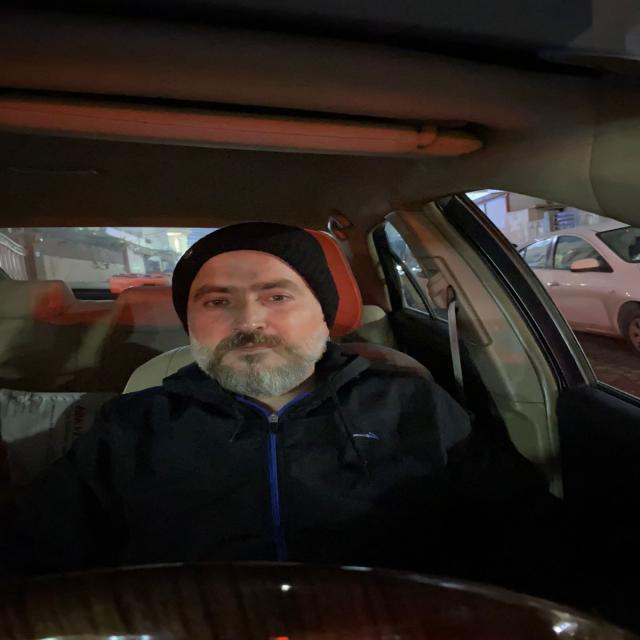person: (162, 212, 362, 409)
